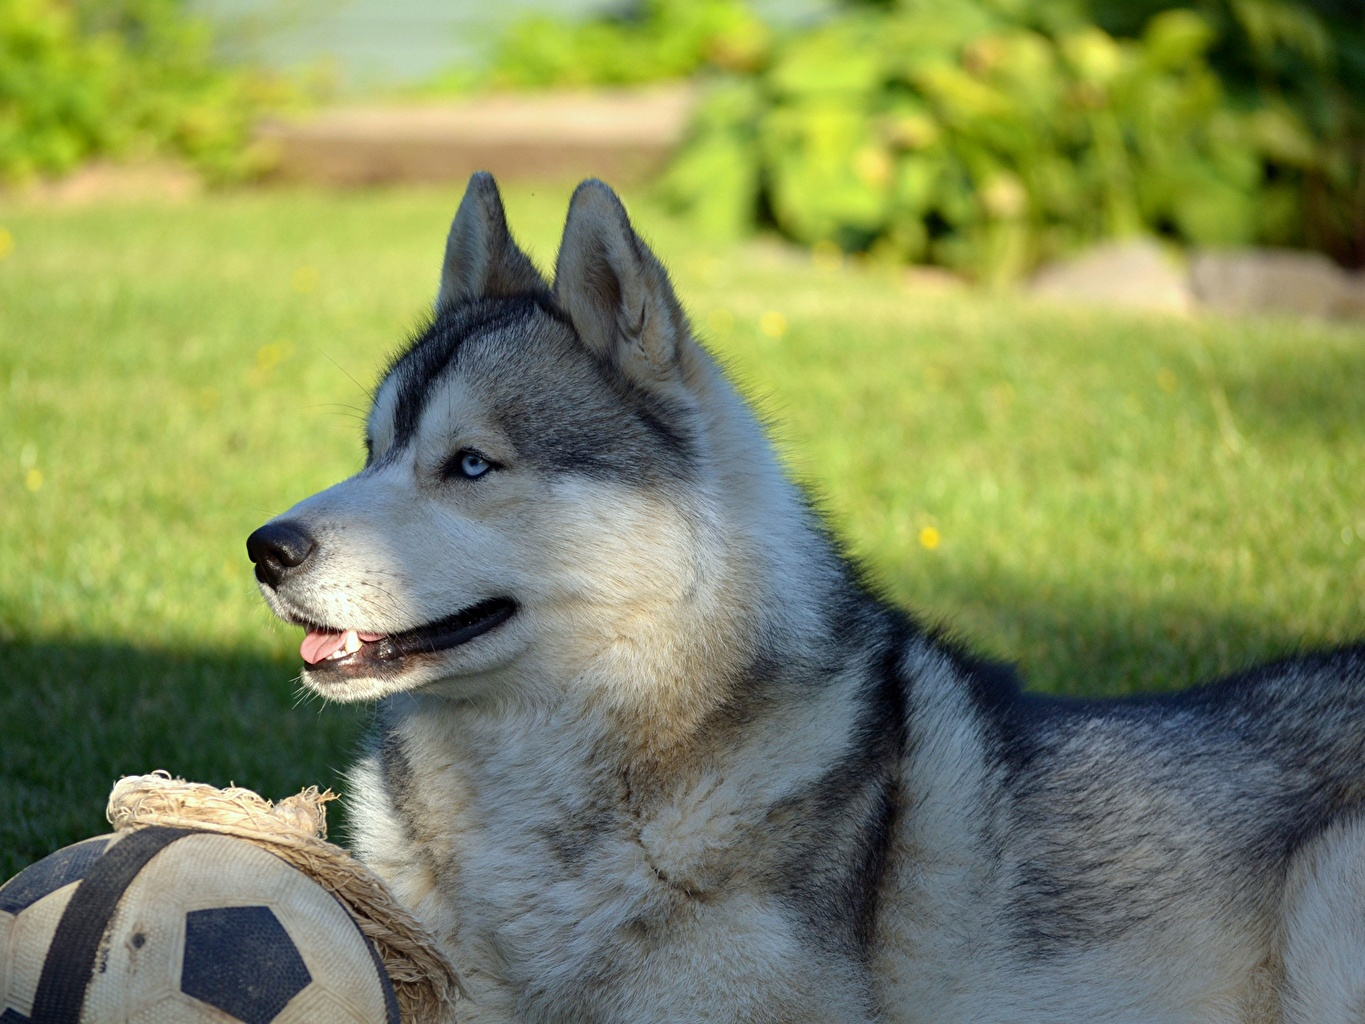husky: (145, 163, 897, 847)
